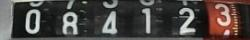digits: (177, 7, 196, 34), (214, 2, 231, 26), (24, 9, 41, 33), (61, 11, 78, 34), (101, 10, 117, 34), (140, 7, 150, 33)
